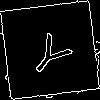Y: (25, 25, 80, 81)
